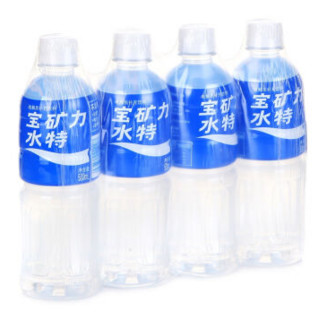POCARI SWEAT: (18, 35, 99, 302), (98, 30, 169, 296), (237, 21, 305, 284), (170, 26, 238, 280)
